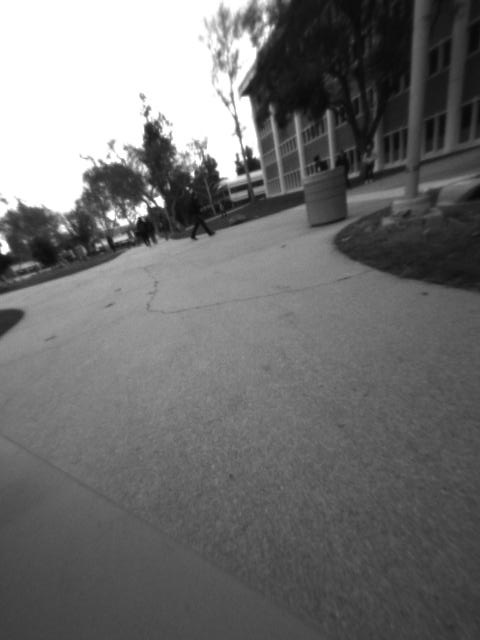trashcan: (302, 164, 355, 229)
